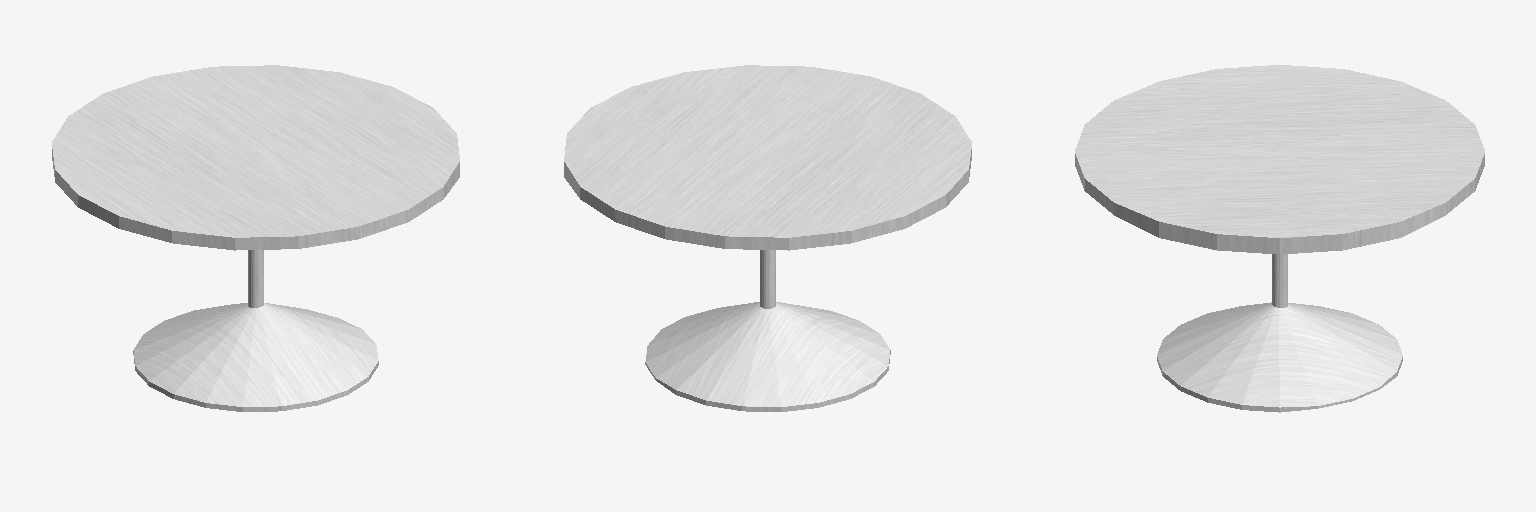
3 renders of one model, left to right at view 1: azimuth 30°, elevation 25°; view 2: azimuth 150°, elevation 25°; view 3: azimuth 270°, elevation 25°, orthographic.
Visible parts, largest first — view 1: mesa_initialShadingGroup.002; view 2: mesa_initialShadingGroup.002; view 3: mesa_initialShadingGroup.002.
Part boxes in pixels (x1,y1,x2,y2): mesa_initialShadingGroup.002: (52, 65, 459, 411); mesa_initialShadingGroup.002: (564, 65, 971, 411); mesa_initialShadingGroup.002: (1075, 65, 1484, 412).
Size of the model in its own units: 10 by 5.61 by 10.
Materials: 1 (1 with a texture image).